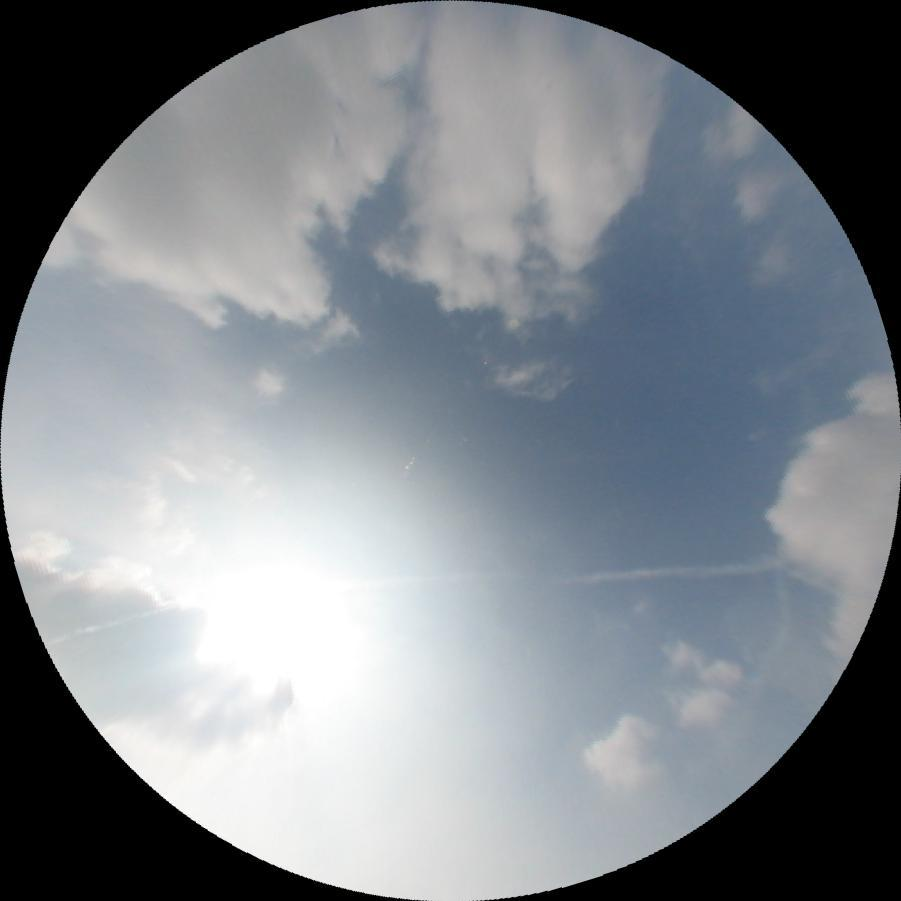contrail veryold: (358, 559, 787, 597)
sun: (190, 553, 368, 706)
